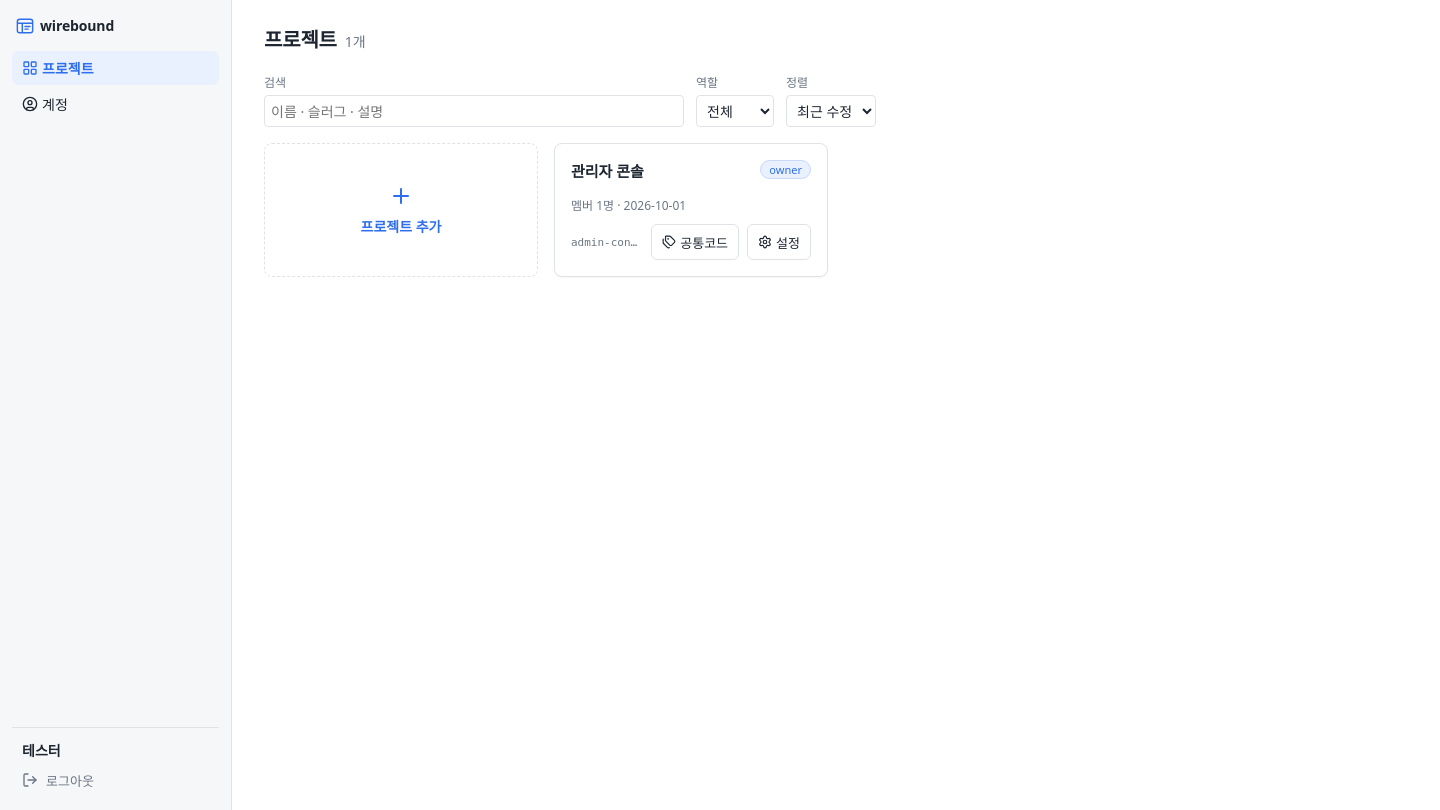
프로젝트 만들기 › «프로젝트 추가» 를 누르면 폼이 열리고 포커스가 첫 필드로 간다
This screenshot has width=1440, height=810.
Expected: the link "관리자 콘솔" is shown, [571,160,665,182]
Click the button "프로젝트 추가": (401, 210) [265,144,537,276]
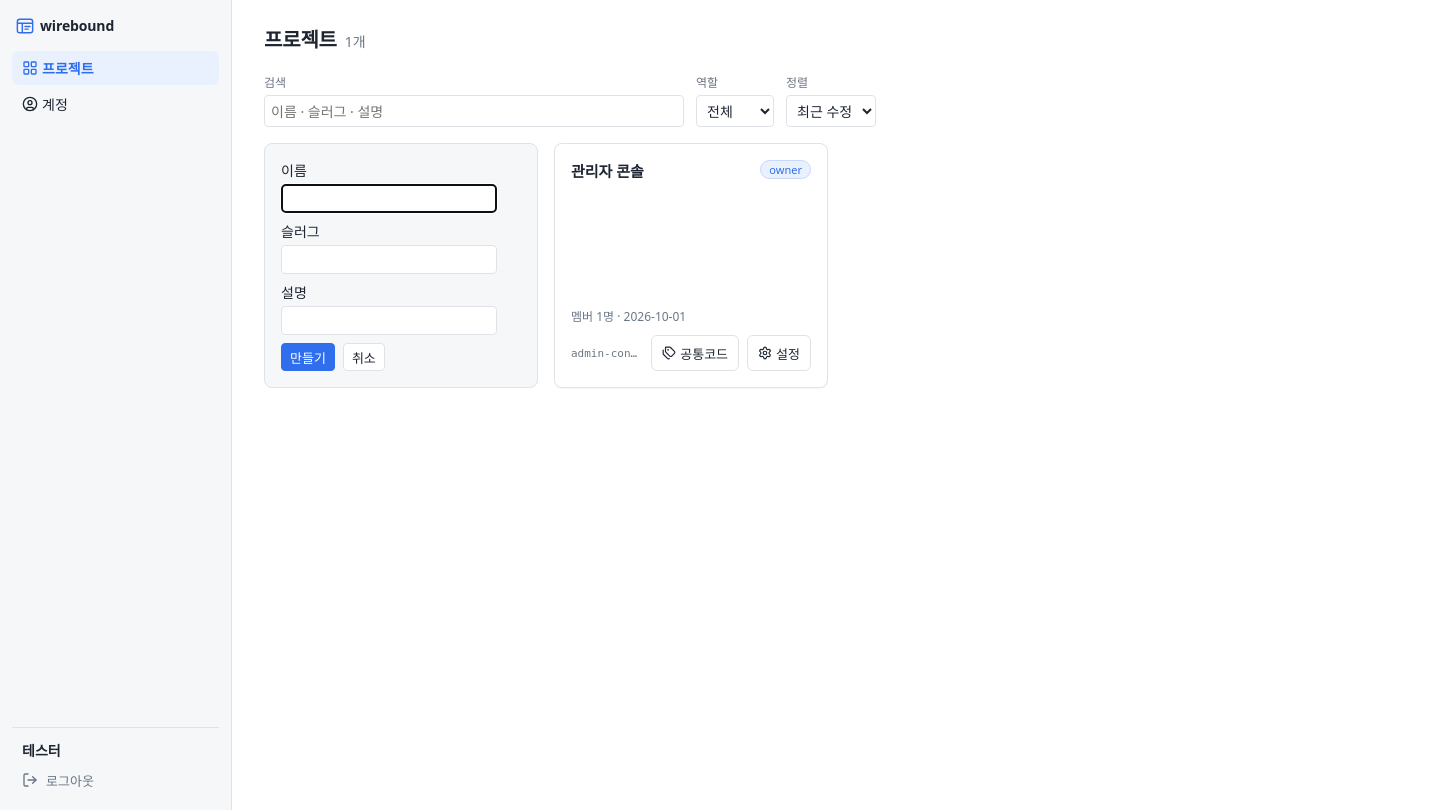
Expected: the field labelled "이름" is shown, [281,184,497,213]
Expected: the field labelled "슬러그" is shown, [281,245,497,274]
Expected: the field labelled "설명" is shown, [281,306,497,335]
